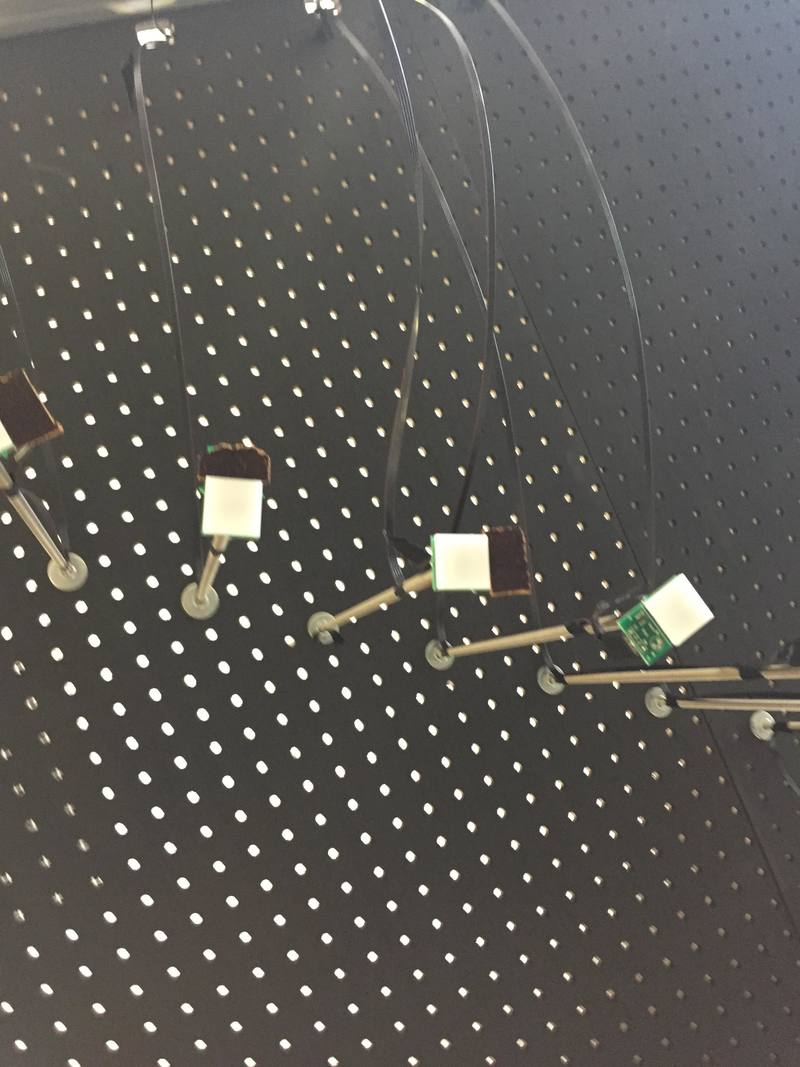target: (637, 570, 718, 645), (427, 528, 495, 594), (199, 472, 264, 536)
